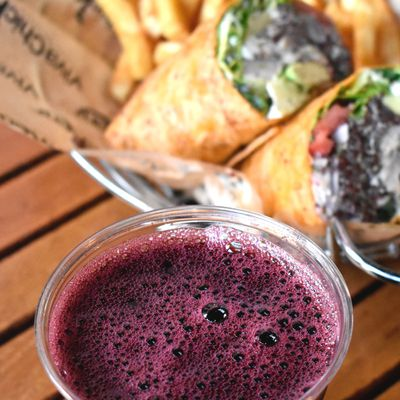sushi: (47, 204, 353, 400), (311, 51, 400, 284)
